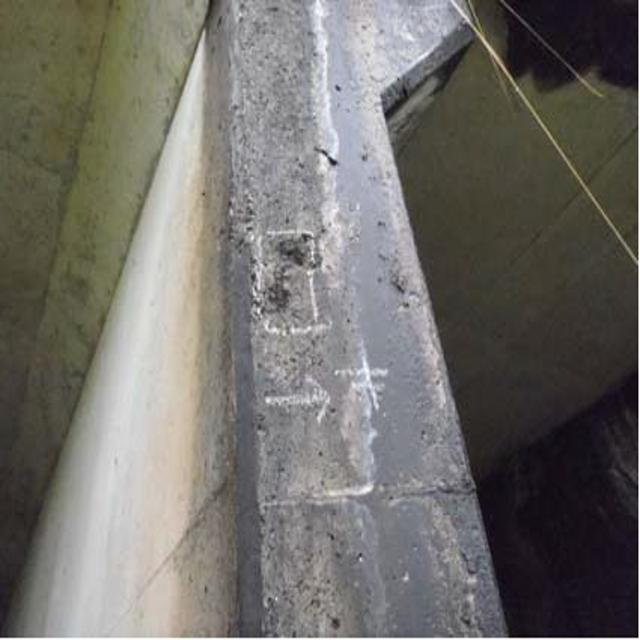spalling: (239, 217, 327, 324)
